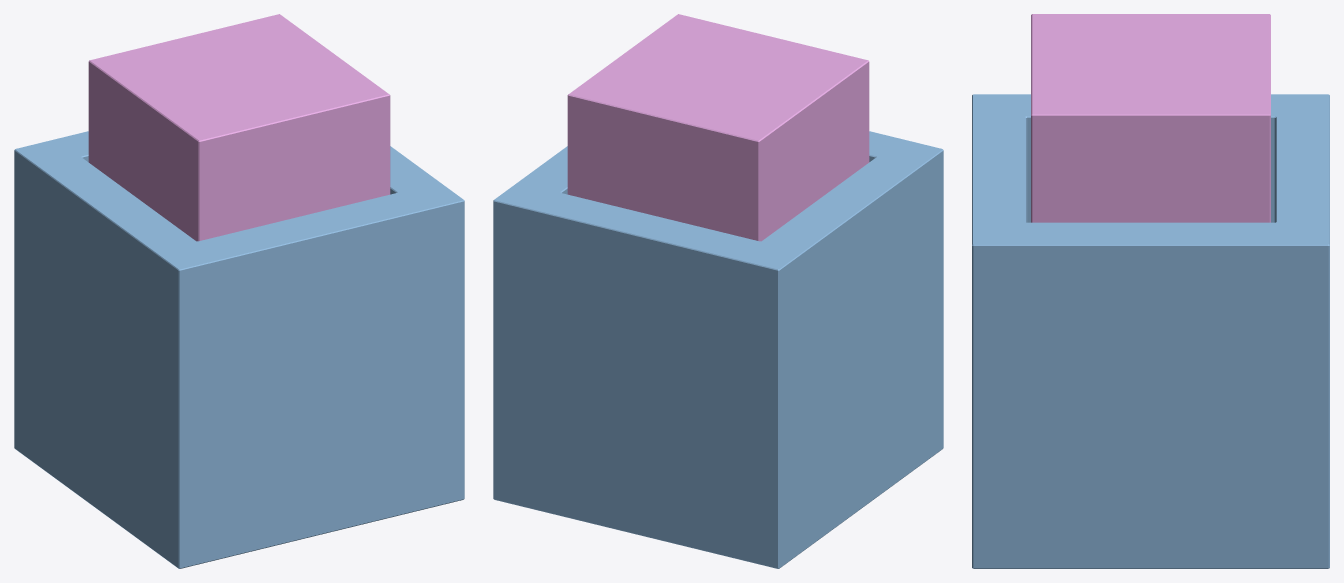
Rendered from teste.gltf.
3 renders of one model, left to right at view 1: azimuth 30°, elevation 25°; view 2: azimuth 150°, elevation 25°; view 3: azimuth 270°, elevation 25°, orthographic. The views are drawn at different scales.
Parts seen in each view (by area): view 1: outer_box, inner_box; view 2: outer_box, inner_box; view 3: outer_box, inner_box.
Boxes of the visible parts, x1,y1,x2,y2 form: outer_box: (14, 131, 464, 568); inner_box: (88, 14, 390, 241); outer_box: (493, 131, 943, 568); inner_box: (567, 14, 869, 241); outer_box: (972, 94, 1329, 568); inner_box: (1031, 14, 1270, 222).
Bounding box in the file's own units: 1 × 1.32 × 1.
